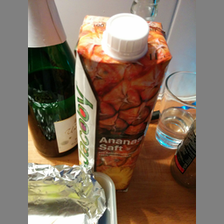juice: (73, 13, 172, 191)
